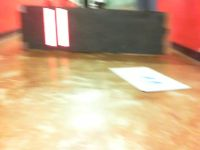switch: (43, 8, 57, 47), (56, 8, 70, 47)
